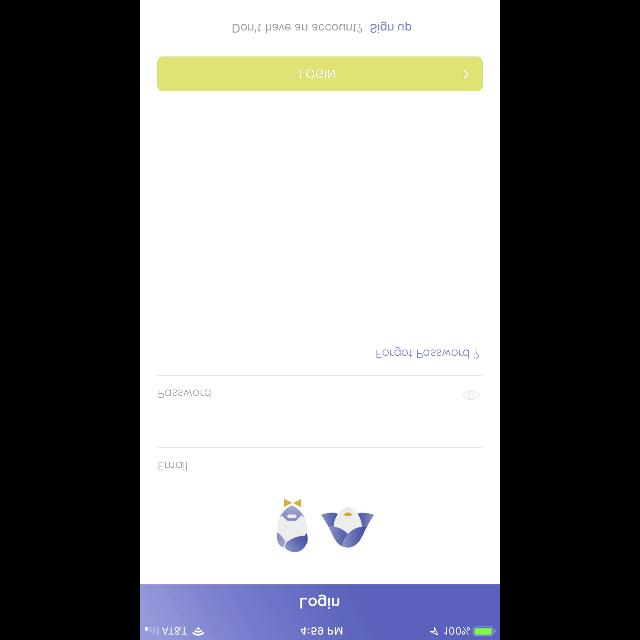icon: (462, 390, 480, 400), (464, 70, 468, 78)
image: (277, 500, 375, 552)
input: (158, 374, 482, 400), (158, 447, 482, 471)
text: (377, 347, 479, 359), (233, 23, 363, 32), (300, 594, 340, 608), (371, 21, 412, 33), (159, 389, 211, 398), (159, 462, 187, 471)
textbutton: (158, 56, 482, 92)
uppertaskbar: (140, 626, 500, 640)
